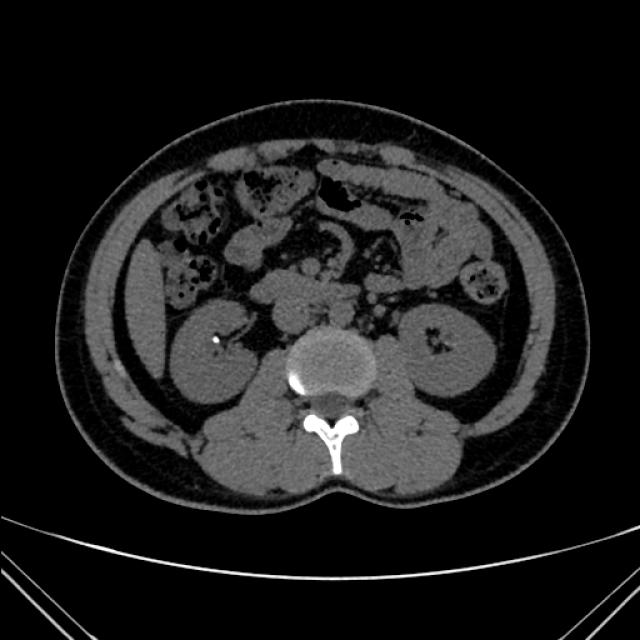kidneystone: (212, 335, 220, 343)
